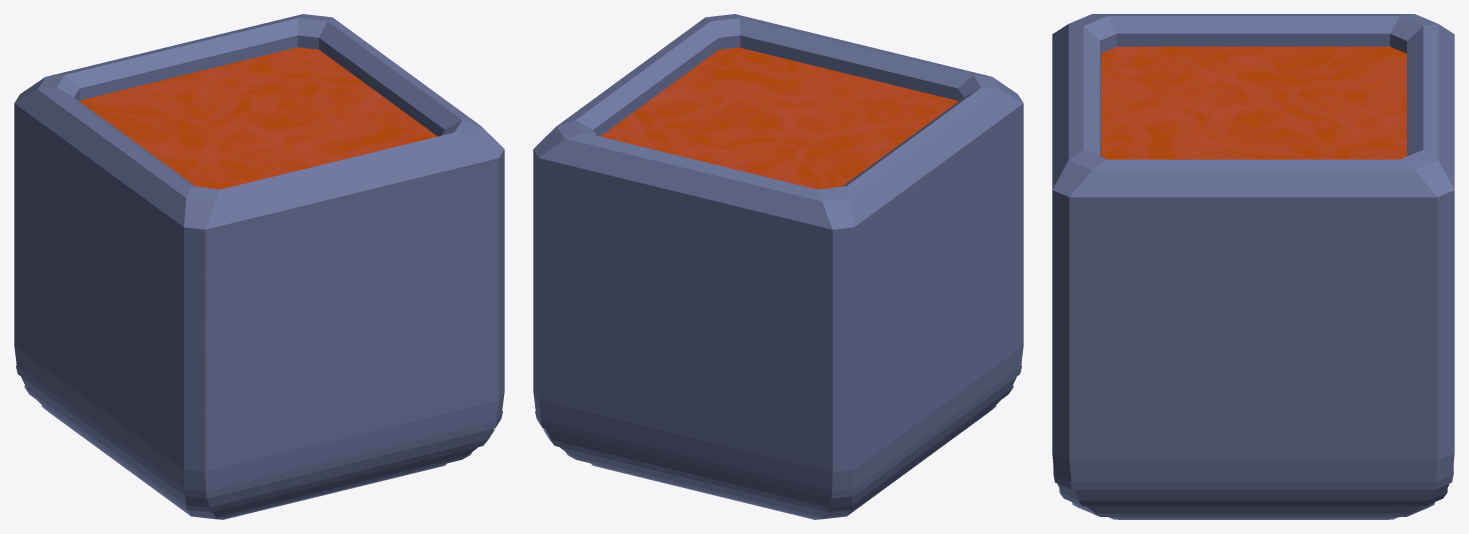
The model's file is Plant and pot v2.1.fbx.
The picture shows the model from 3 angles, left to right: view 1: azimuth 30°, elevation 25°; view 2: azimuth 150°, elevation 25°; view 3: azimuth 270°, elevation 25°; orthographic projection. The views are drawn at different scales.
Parts seen in each view (by area): view 1: Cube; view 2: Cube; view 3: Cube.
Boxes of the visible parts, x1=… form: Cube: x1=14, y1=14, x2=504, y2=519; Cube: x1=533, y1=14, x2=1023, y2=519; Cube: x1=1052, y1=14, x2=1454, y2=519.
Bounding box in the file's own units: 92.02 × 94.26 × 92.02.
Materials: 1 (1 with a texture image).
